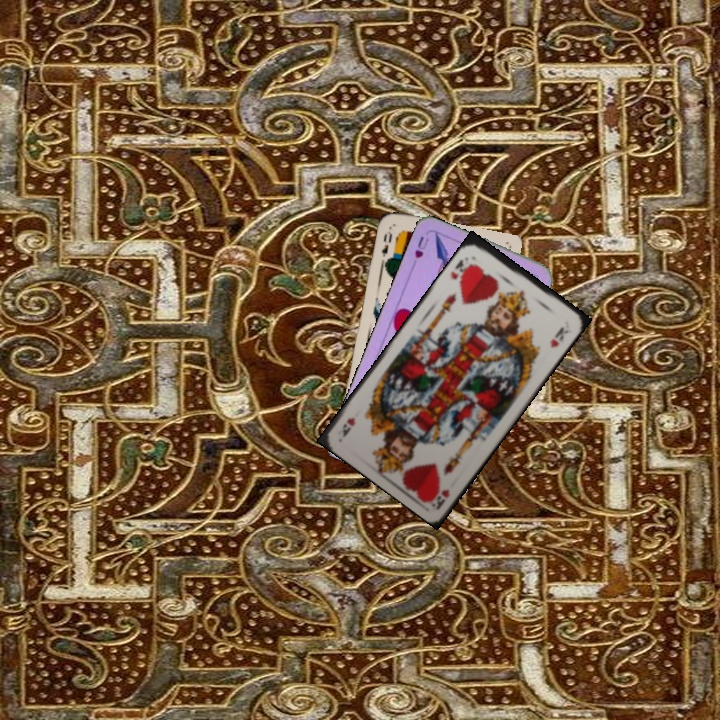EO: (377, 227, 395, 265)
HK: (447, 253, 475, 285), (428, 485, 452, 510)
HU: (408, 232, 431, 269)
